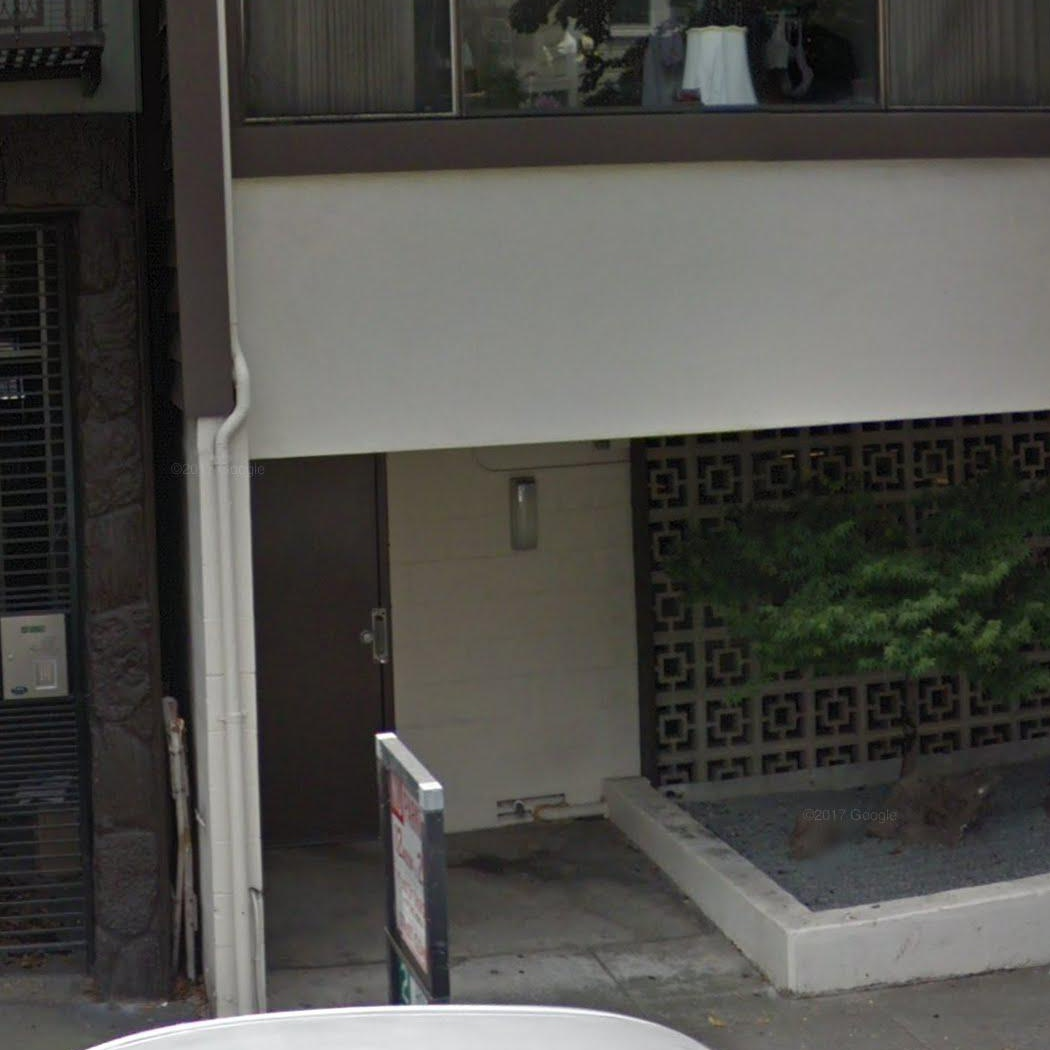No Parking: (373, 729, 452, 996)
